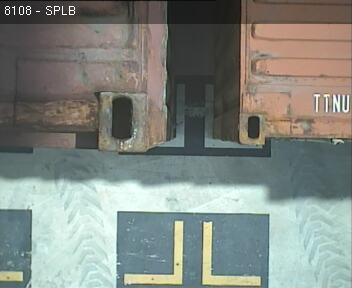groundmarker_1: (125, 220, 262, 285), (162, 83, 263, 148)
